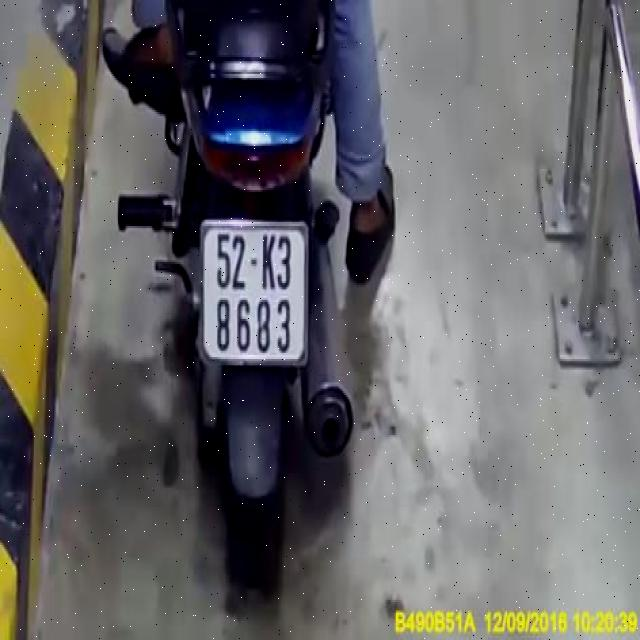2: (231, 231, 246, 290)
3: (276, 229, 292, 290), (277, 296, 291, 356)
5: (213, 229, 232, 290)
6: (234, 292, 252, 355)
8: (254, 290, 271, 354), (214, 296, 233, 351)
K: (261, 229, 277, 292)
